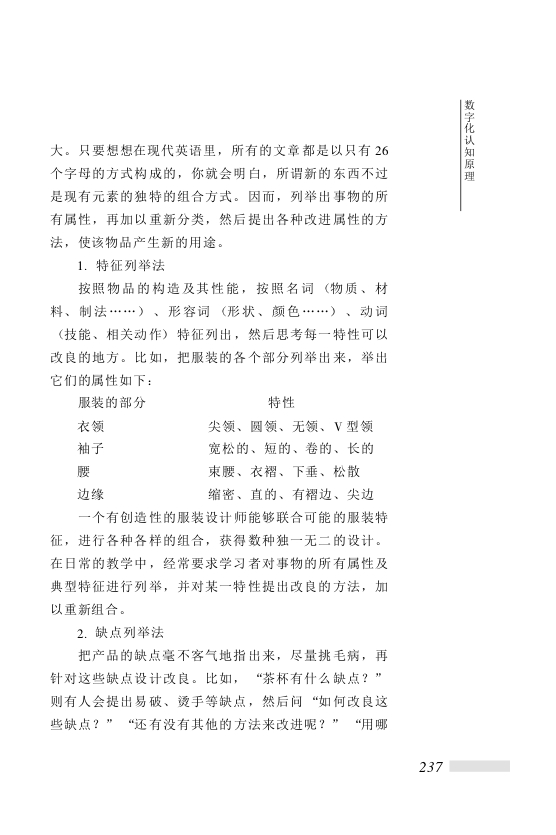table: (77, 396, 374, 500)
